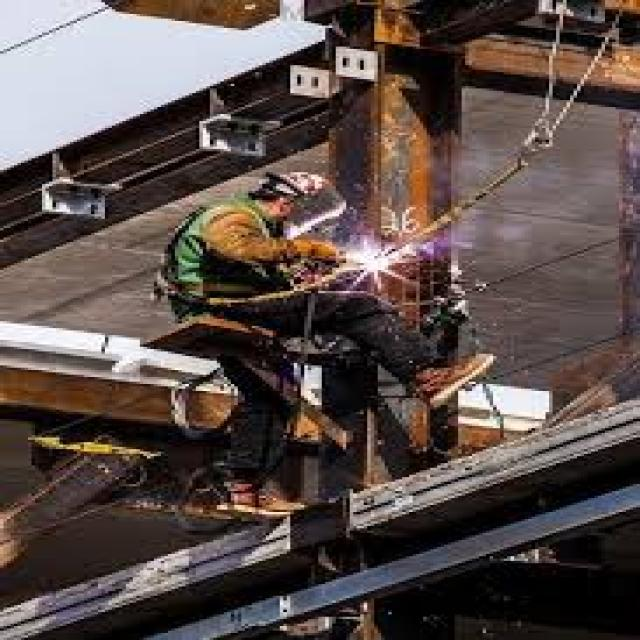welding: (354, 246, 389, 272)
